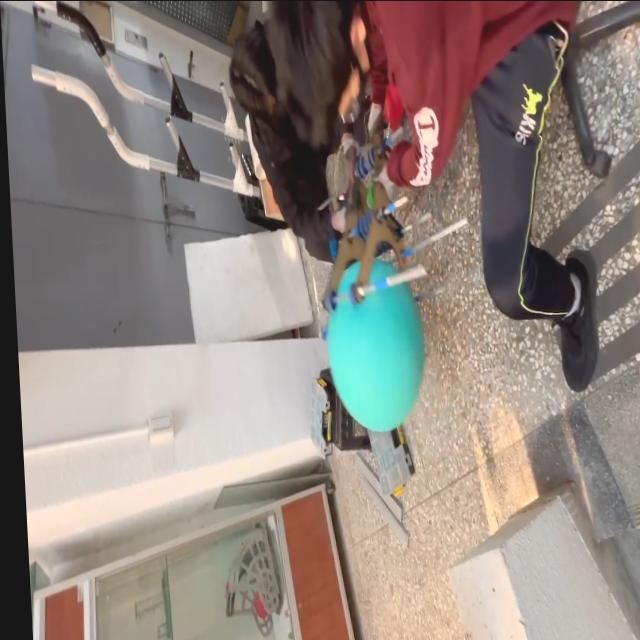ALGAE: (321, 256, 431, 434)
